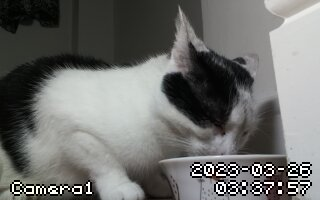bad: (9, 5, 266, 198)
